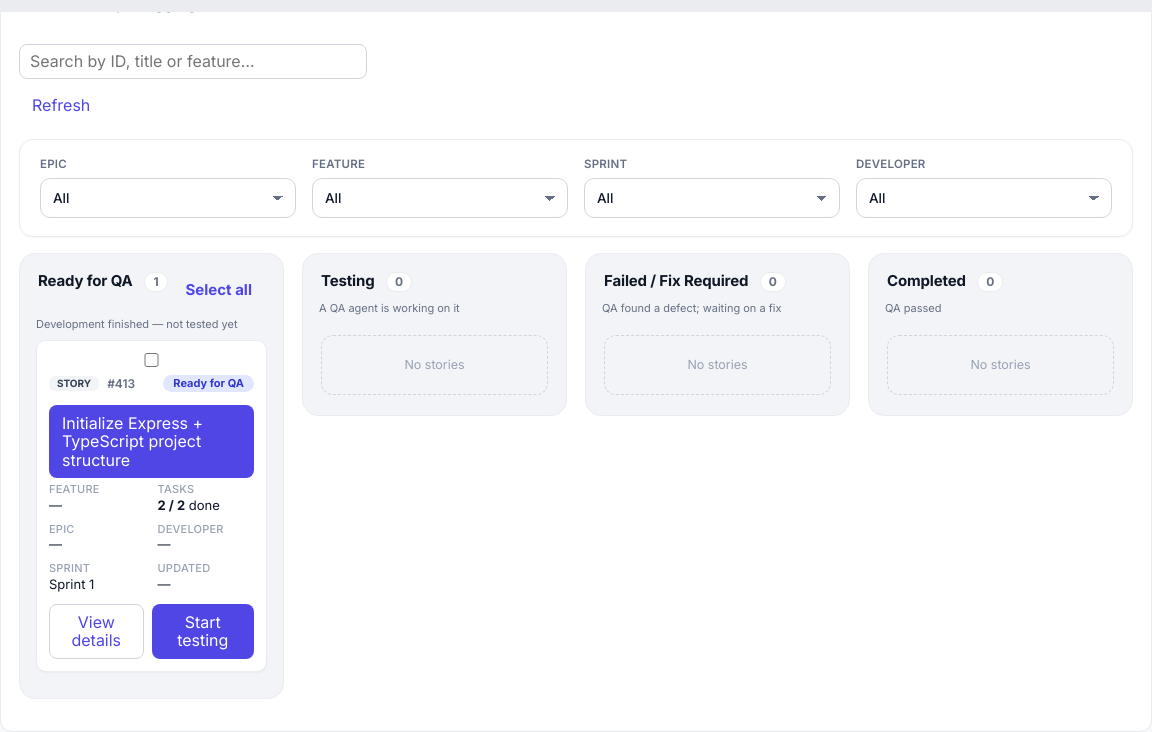
QaBoardView refusals › shows the API reason on the card that was clicked
(page scrolled)
Click the button "Start testing". click: click(203, 631)
box: top-left (152, 604), bottom-right (254, 658)
(page scrolled)
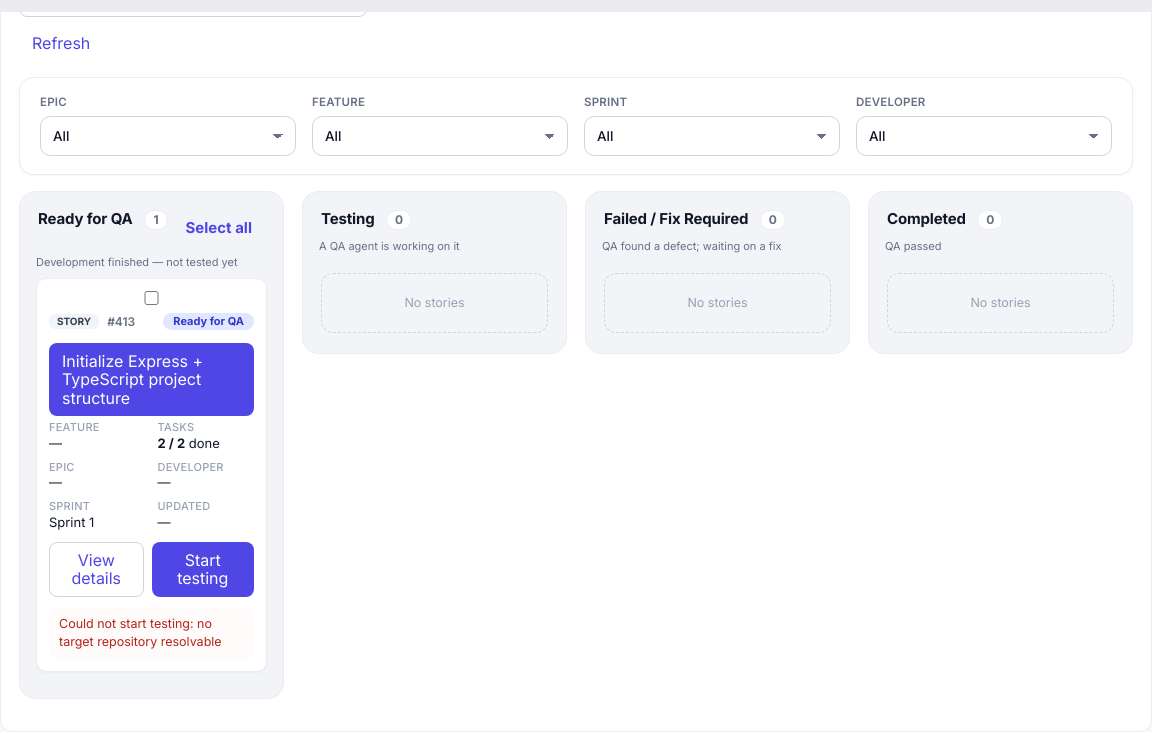
Check: the list item that starts with "Story" is shown, box top-left (36, 278), bottom-right (267, 672)
Check: the message shows "no target repository resolvable", box top-left (59, 616), bottom-right (222, 649)
